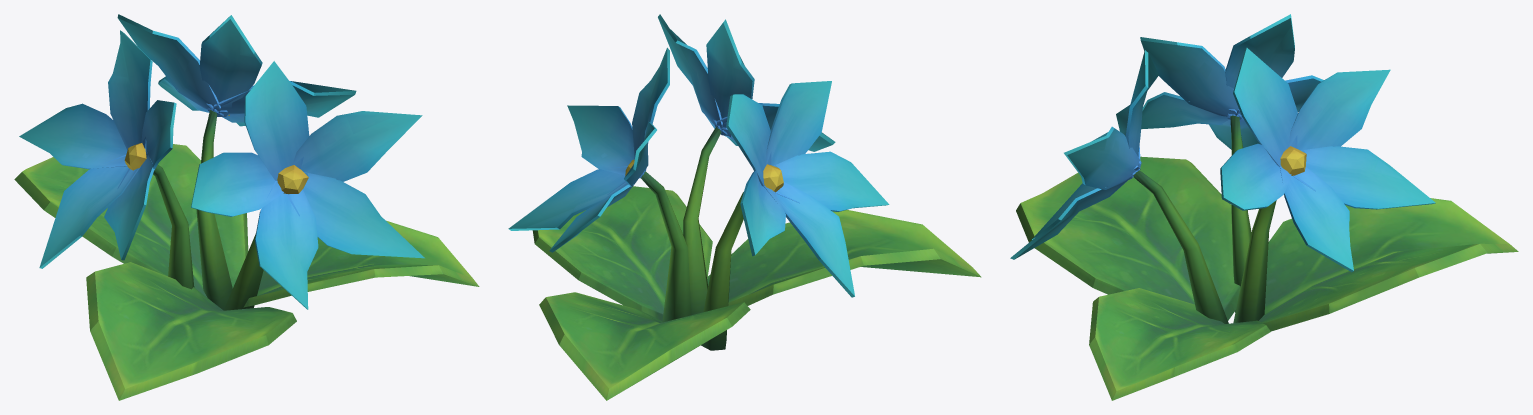
File: Flower03.fbx
3 views of the same model, side by side, from view 1: azimuth 30°, elevation 25°; view 2: azimuth 150°, elevation 25°; view 3: azimuth 270°, elevation 25° (orthographic).
Parts seen in each view (by area): view 1: flower5; view 2: flower5; view 3: flower5.
Boxes of the visible parts, bbox=[...] form: flower5: bbox=[14, 14, 479, 400]; flower5: bbox=[508, 14, 981, 400]; flower5: bbox=[1010, 14, 1518, 400].
Size of the model in its own units: 5.3 by 3.79 by 5.91.
